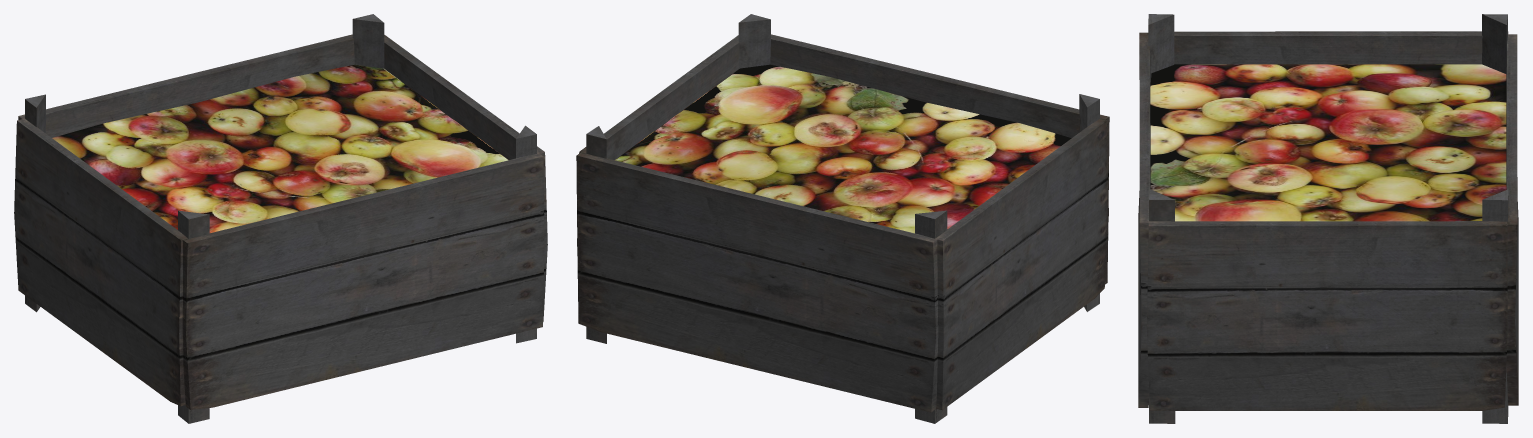
File: fruitbox01_LOD01.fbx
3 views of the same model, side by side, from view 1: azimuth 30°, elevation 25°; view 2: azimuth 150°, elevation 25°; view 3: azimuth 270°, elevation 25° (orthographic). The views are drawn at different scales.
Visible parts, largest first — view 1: Mesh Object; view 2: Mesh Object; view 3: Mesh Object.
Part boxes in pixels (box(x1,y1,x2,y2)): Mesh Object: box(14, 14, 547, 423); Mesh Object: box(576, 14, 1109, 423); Mesh Object: box(1138, 14, 1518, 423).
Size of the model in its own units: 0.6381 by 0.3394 by 0.5228.
